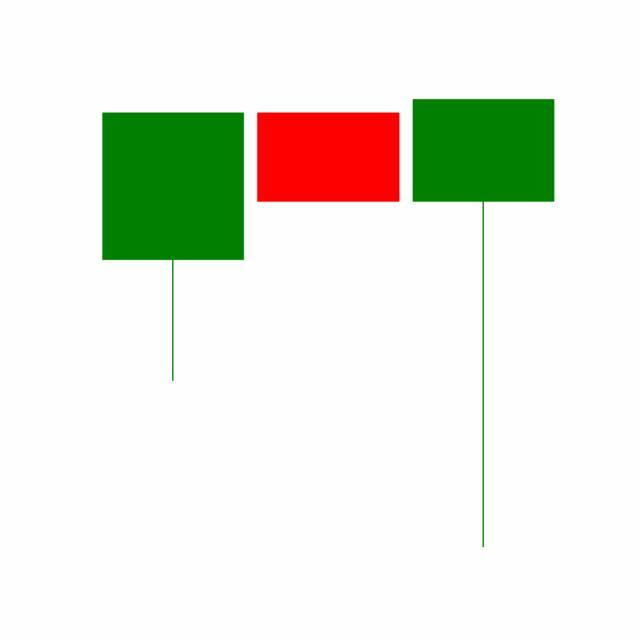Marubozu: (250, 111, 407, 203)
